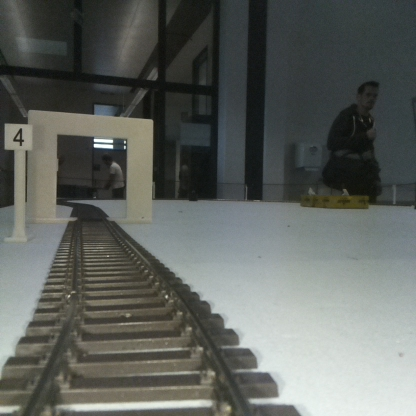white-info-4: (4, 124, 32, 239)
